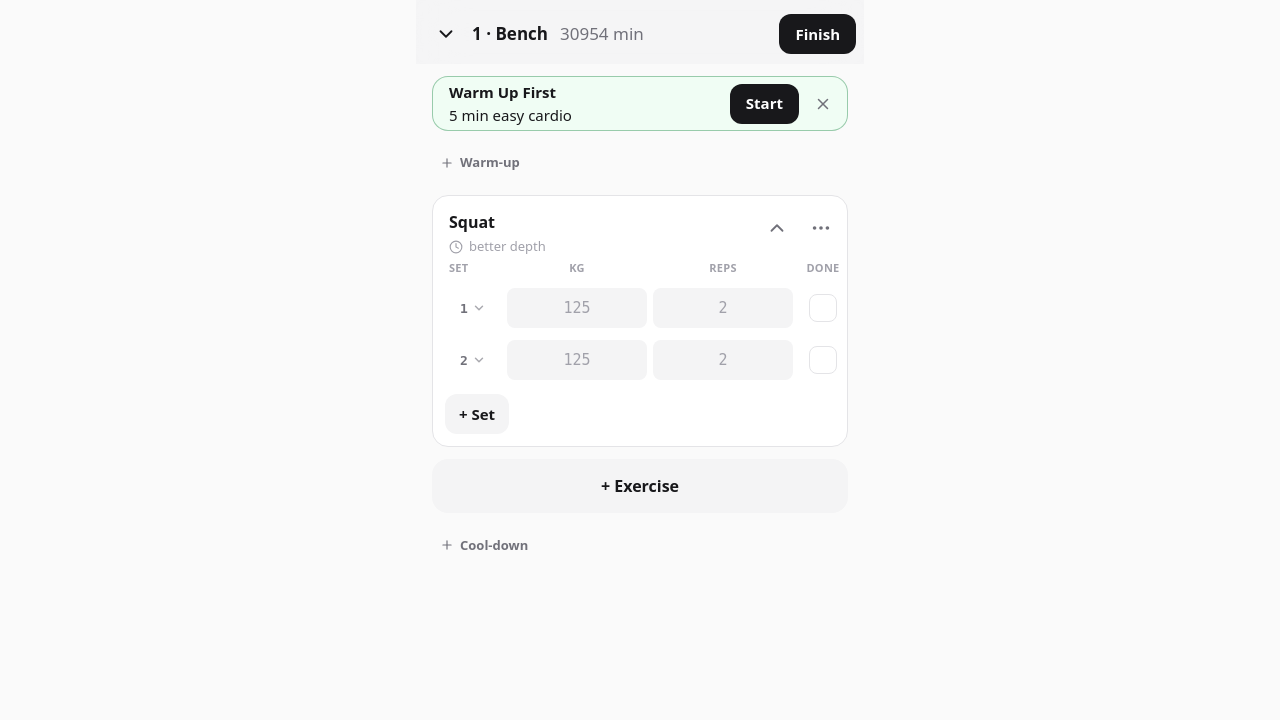
Session › keeps a finished session on the phone when it cannot be sent
Click the button named "Set 1 done" at (823, 308), box [799,284,847,332]
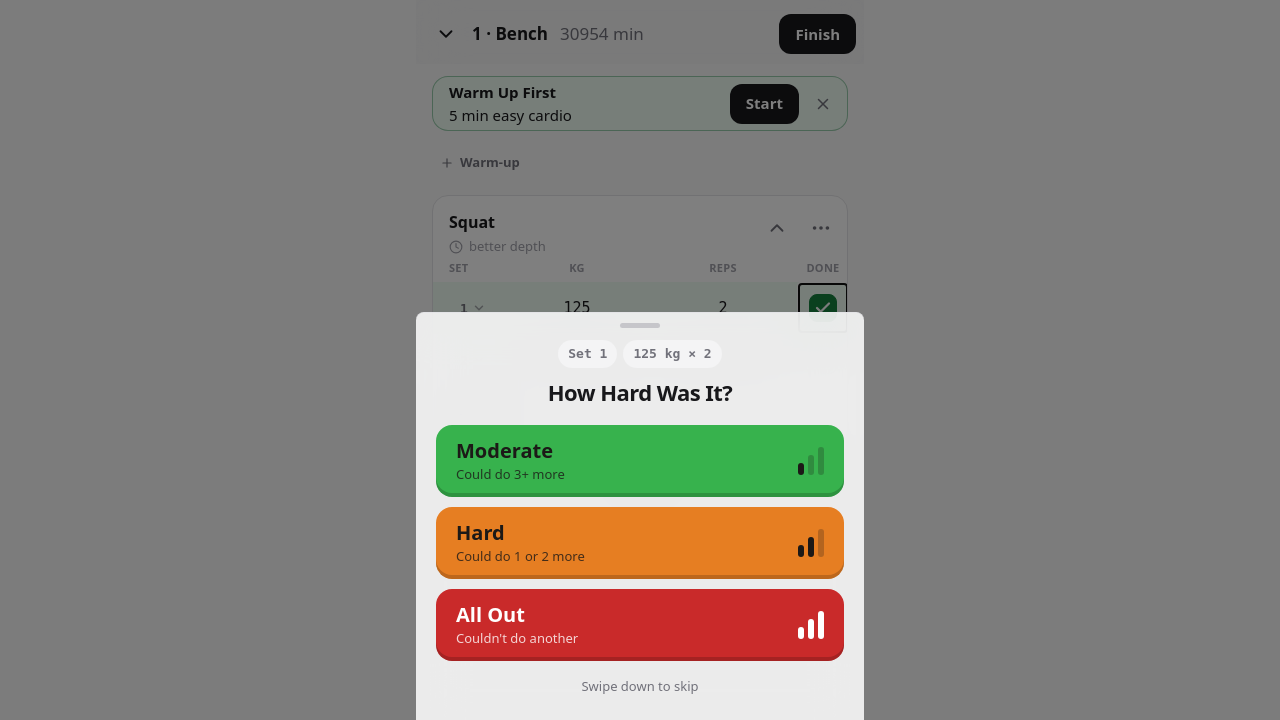
Now the dialog "How Hard Was It?" is shown, box [416,312,864,719]
Press Escape
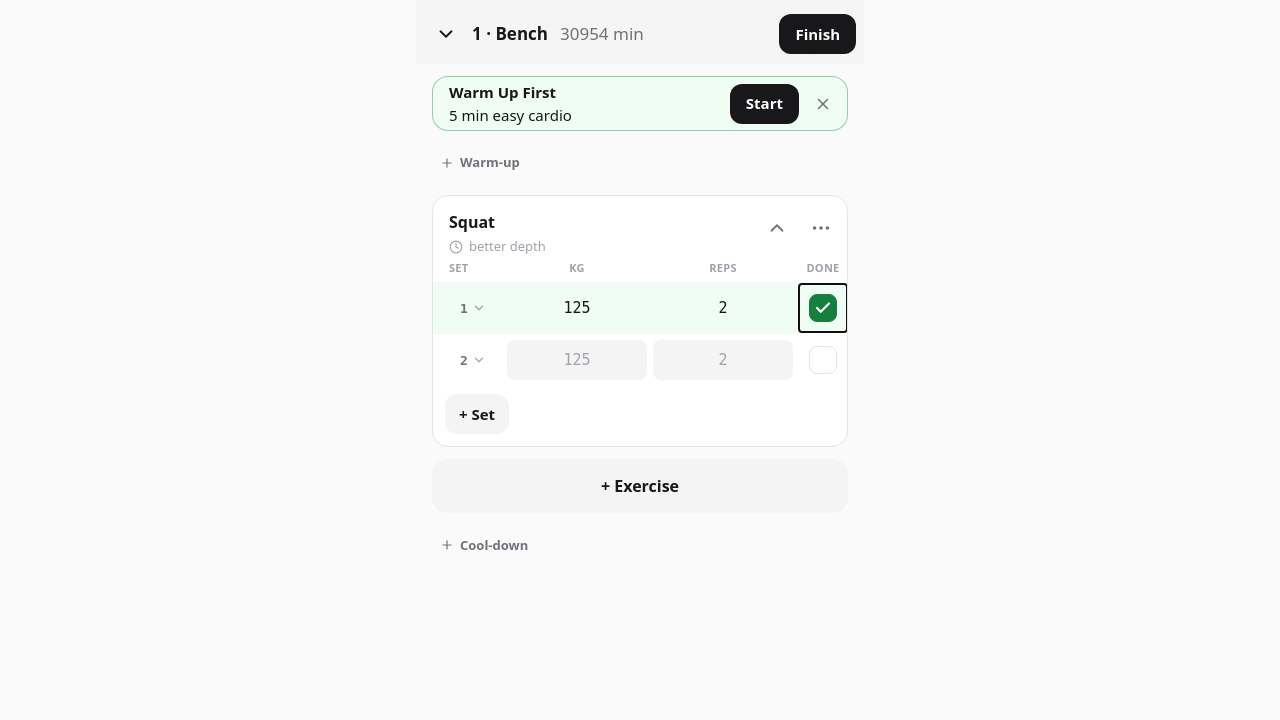
Now the text "How Hard Was It?" is gone
Click the button "Finish" at (818, 34), box [779,14,856,54]
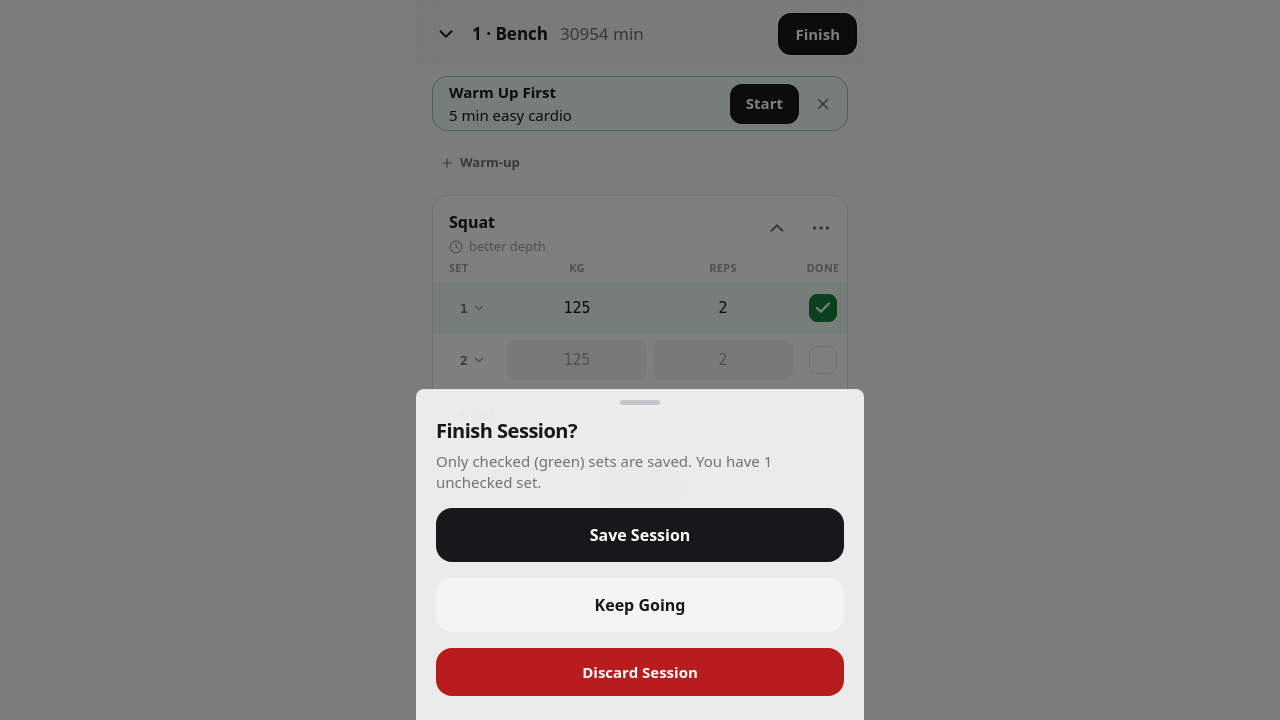
Click the button "Save Session" at (640, 535), box [436,508,844,562]
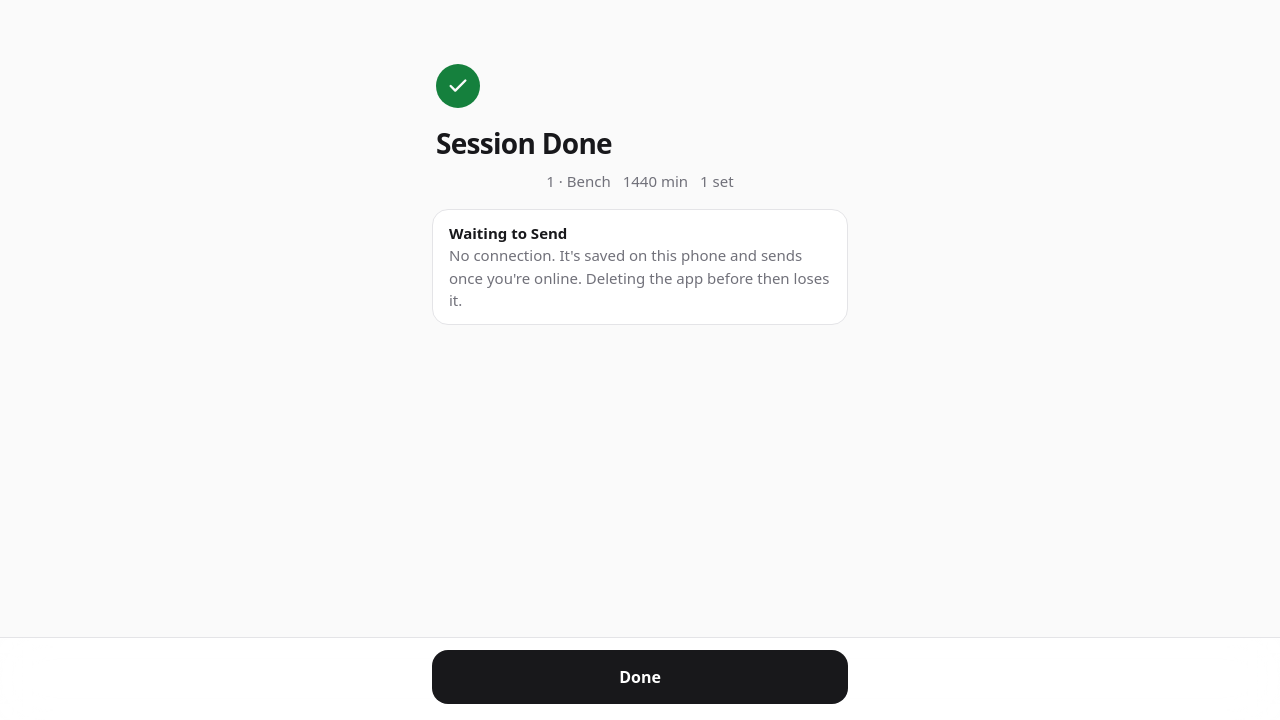
Now the text "Waiting to Send" is shown, box [449,222,567,242]
